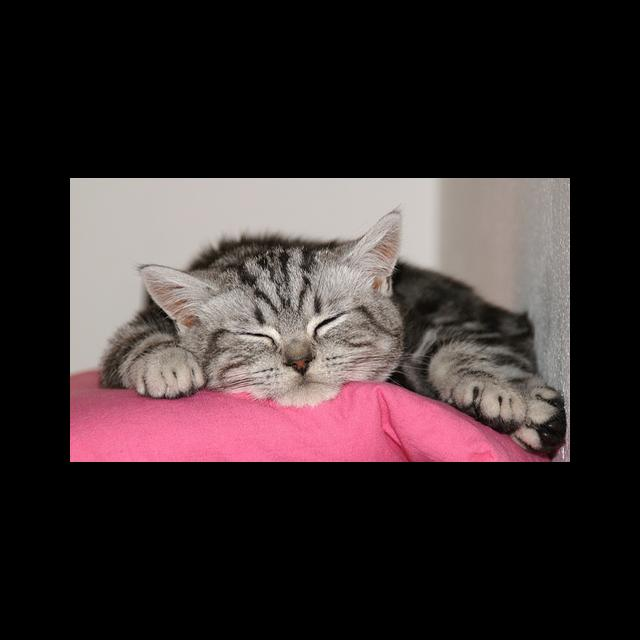animals: (139, 213, 397, 373)
